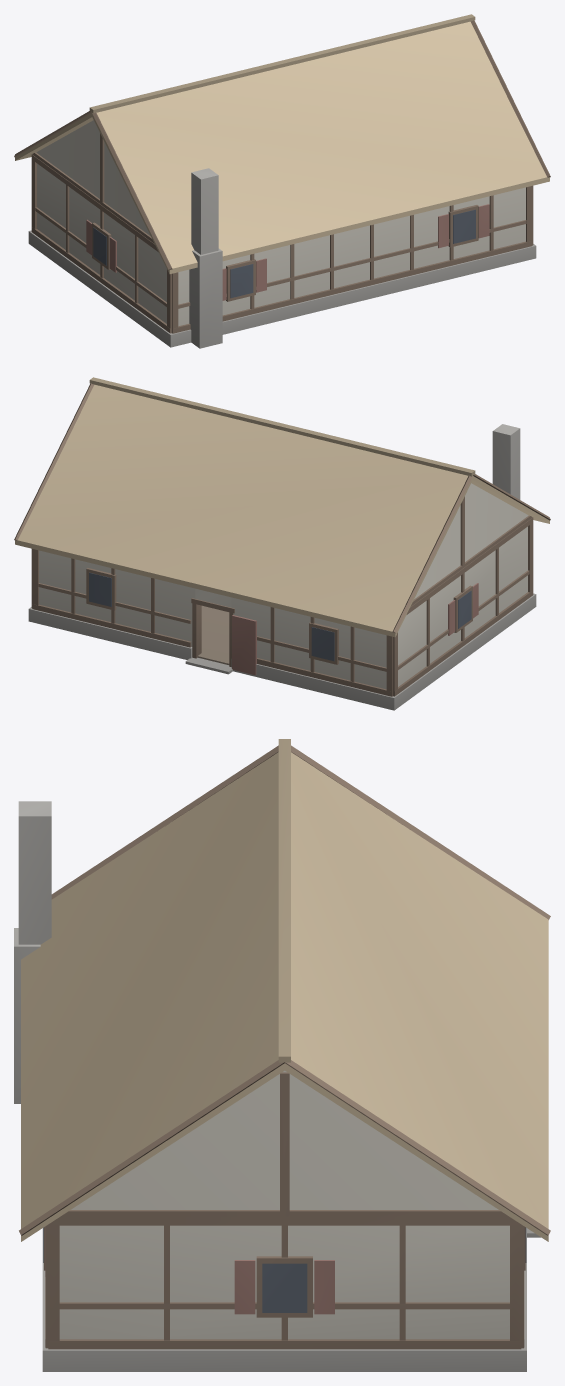
The model's file is open_farmhouse.gltf.
3 renders of one model, top to bottom at view 1: azimuth 30°, elevation 25°; view 2: azimuth 150°, elevation 25°; view 3: azimuth 270°, elevation 25°, orthographic. The views are drawn at different scales.
Visible parts, largest first — view 1: Body; view 2: Body; view 3: Body.
Boxes of the visible parts, bbox=[...] form: Body: bbox=[14, 14, 550, 348]; Body: bbox=[14, 377, 550, 710]; Body: bbox=[14, 739, 550, 1371].
Bounding box in the file's own units: 15.97 × 7.54 × 11.4.
